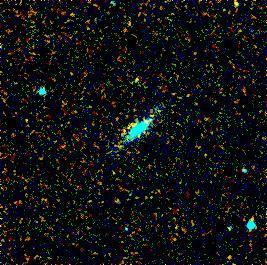star: (120, 64, 150, 94)
